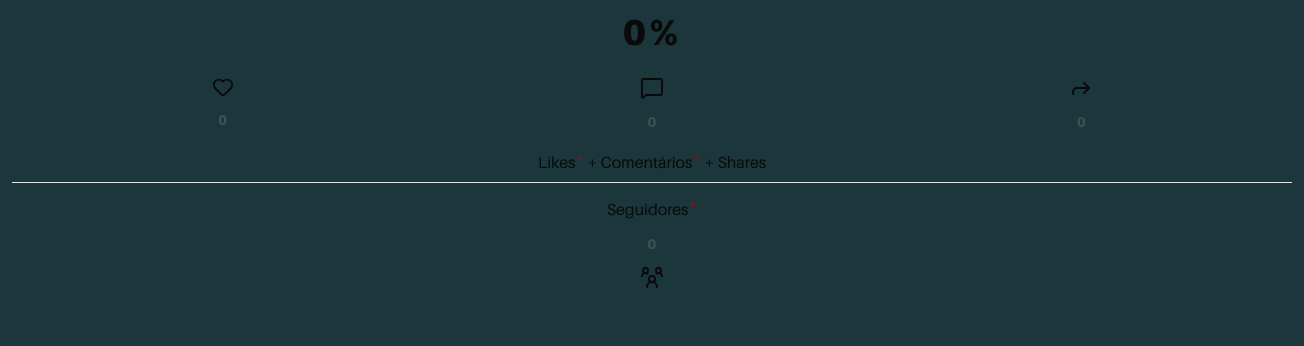
EngagementCalculator › updates the rate with the latest keystroke
In the field named "Curtidas": (223, 120) [12, 106, 433, 134], type "70"
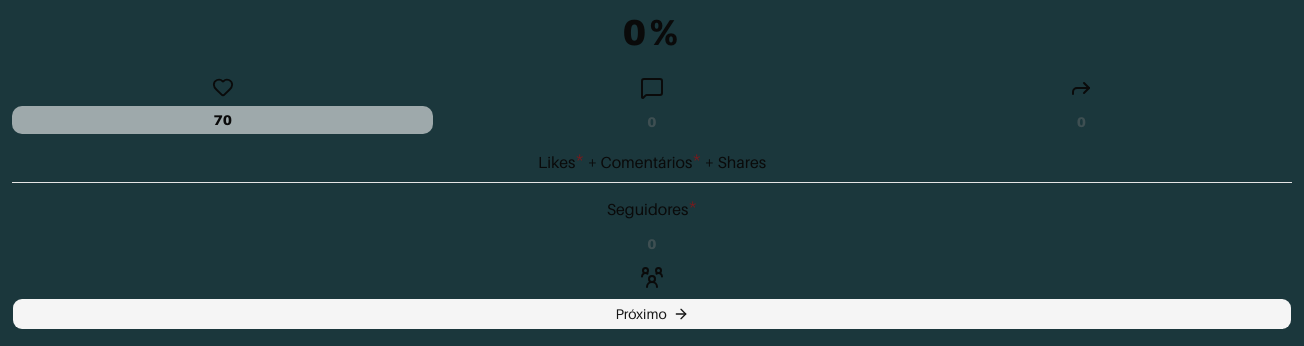
In the field named "Seguidores": (652, 244) [12, 230, 1292, 258], type "1000"
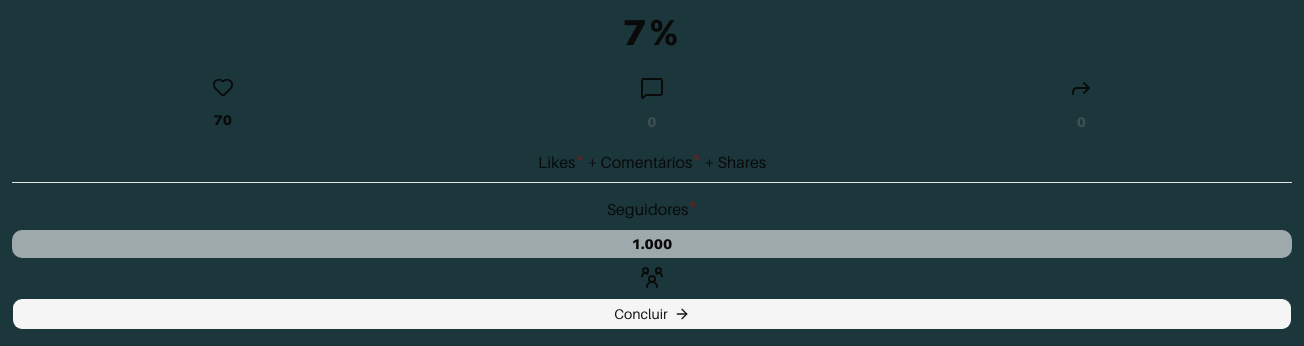
Expected: the heading "7%" is shown, [622, 12, 682, 52]
